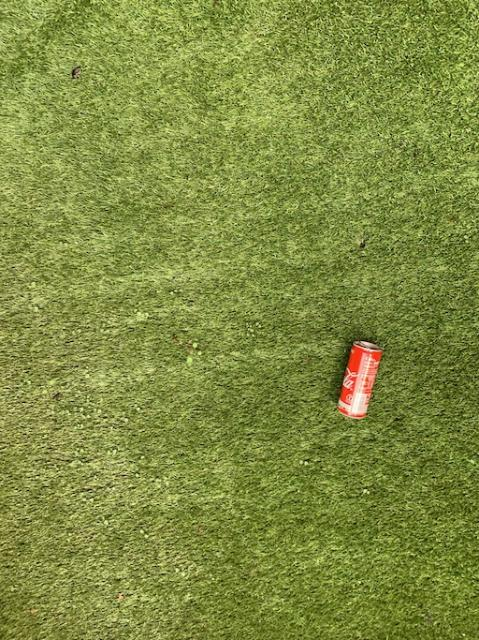metal: (337, 340, 380, 416)
